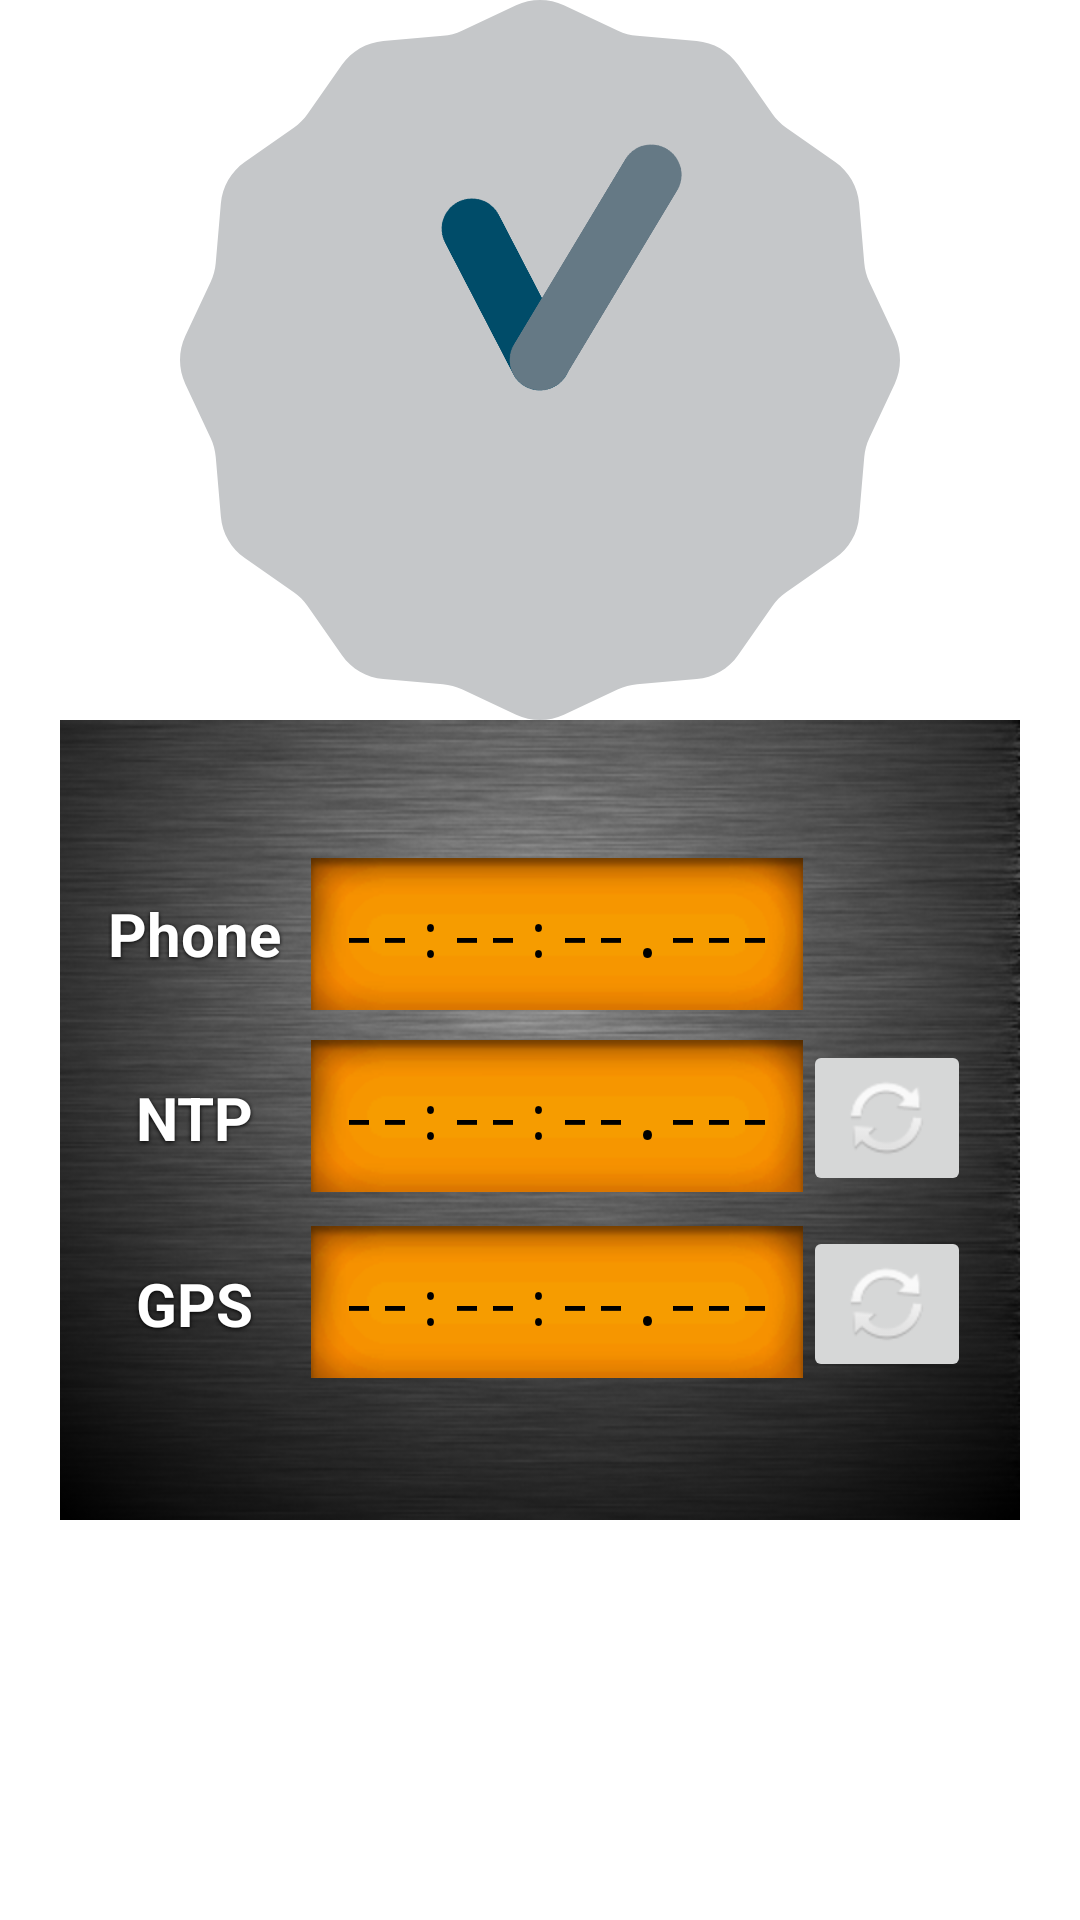

Icons on this 1080x1920 Android screen, each with the point to tap as point (x, y):
popup sync: point (881, 1117), point (884, 1297)
